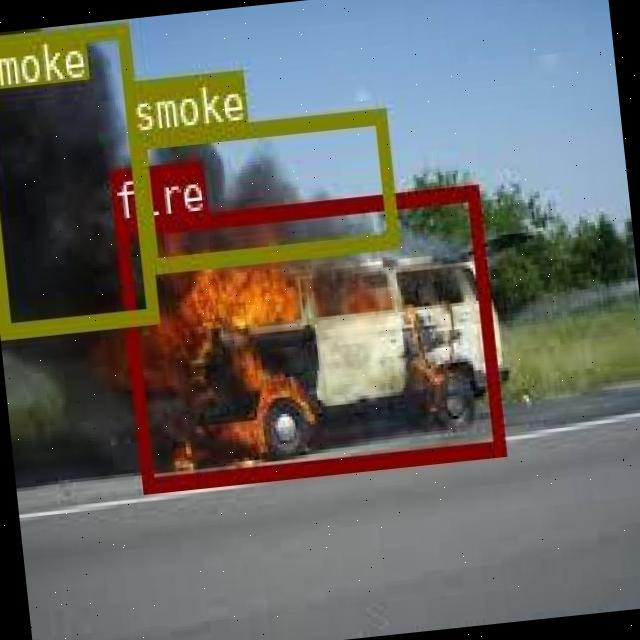fire: (114, 184, 502, 488)
smoke: (0, 22, 157, 337), (132, 107, 396, 270)
